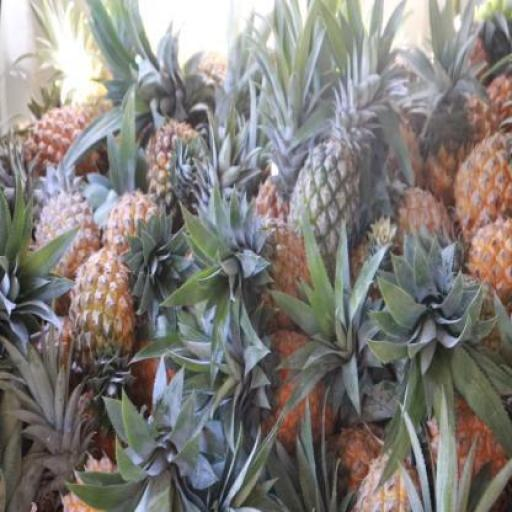Pineapple - v8 v1: (74, 256, 135, 382)
